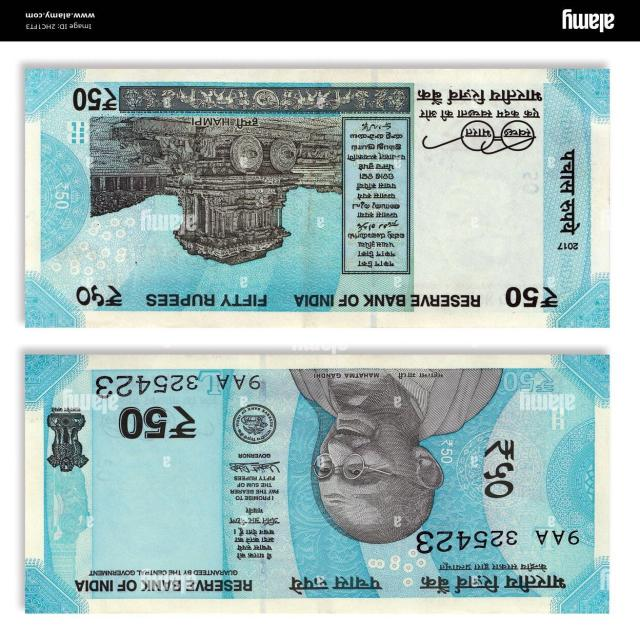50IndianRupees: (24, 58, 625, 328)
